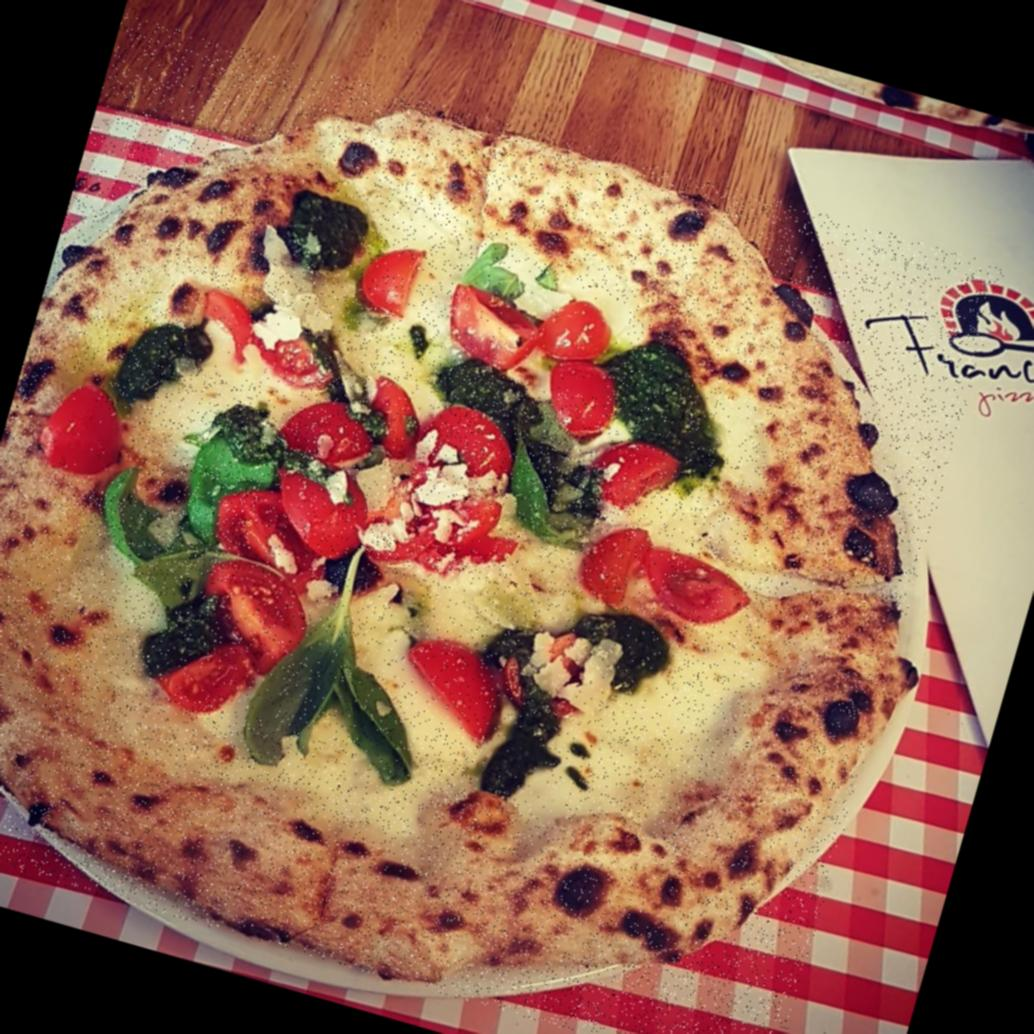Basil: (219, 542, 470, 796), (405, 354, 611, 534), (113, 390, 281, 586), (584, 325, 766, 505), (468, 618, 617, 826), (542, 595, 680, 709), (97, 311, 221, 428), (208, 386, 332, 487), (258, 178, 370, 276)
Pizza: (0, 13, 1006, 1034)
Tomatoes: (168, 484, 322, 719), (436, 258, 632, 428), (244, 387, 398, 581), (392, 397, 524, 567), (567, 522, 749, 638), (180, 285, 336, 402), (384, 621, 517, 742), (25, 368, 143, 495), (578, 431, 672, 506), (354, 243, 430, 318), (361, 376, 430, 458)
